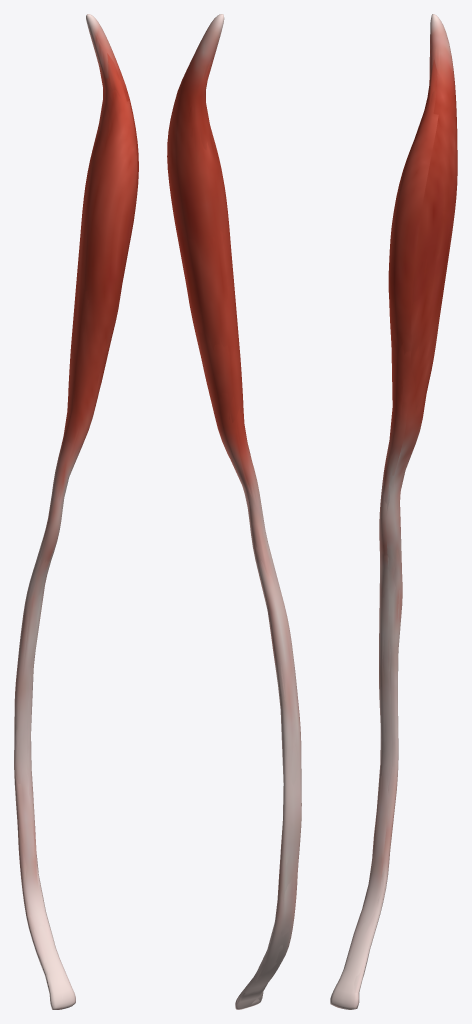
Rendered from L Common Digital Extensor.fbx.
3 renders of one model, left to right at view 1: azimuth 30°, elevation 25°; view 2: azimuth 210°, elevation 25°; view 3: azimuth 330°, elevation 25°, orthographic. The views are drawn at different scales.
Parts seen in each view (by area): view 1: L Common Digital Extensor, L Common Digital Extensor low; view 2: L Common Digital Extensor, L Common Digital Extensor low; view 3: L Common Digital Extensor, L Common Digital Extensor low.
Part boxes in pixels (x1,y1,x2,y2): L Common Digital Extensor: (14,14,138,1009); L Common Digital Extensor low: (14,27,138,1009); L Common Digital Extensor: (167,14,301,1009); L Common Digital Extensor low: (168,16,301,1009); L Common Digital Extensor: (330,14,457,1009); L Common Digital Extensor low: (335,16,456,1008).
Bounding box in the file's own units: 9.42 × 85.82 × 7.51.
